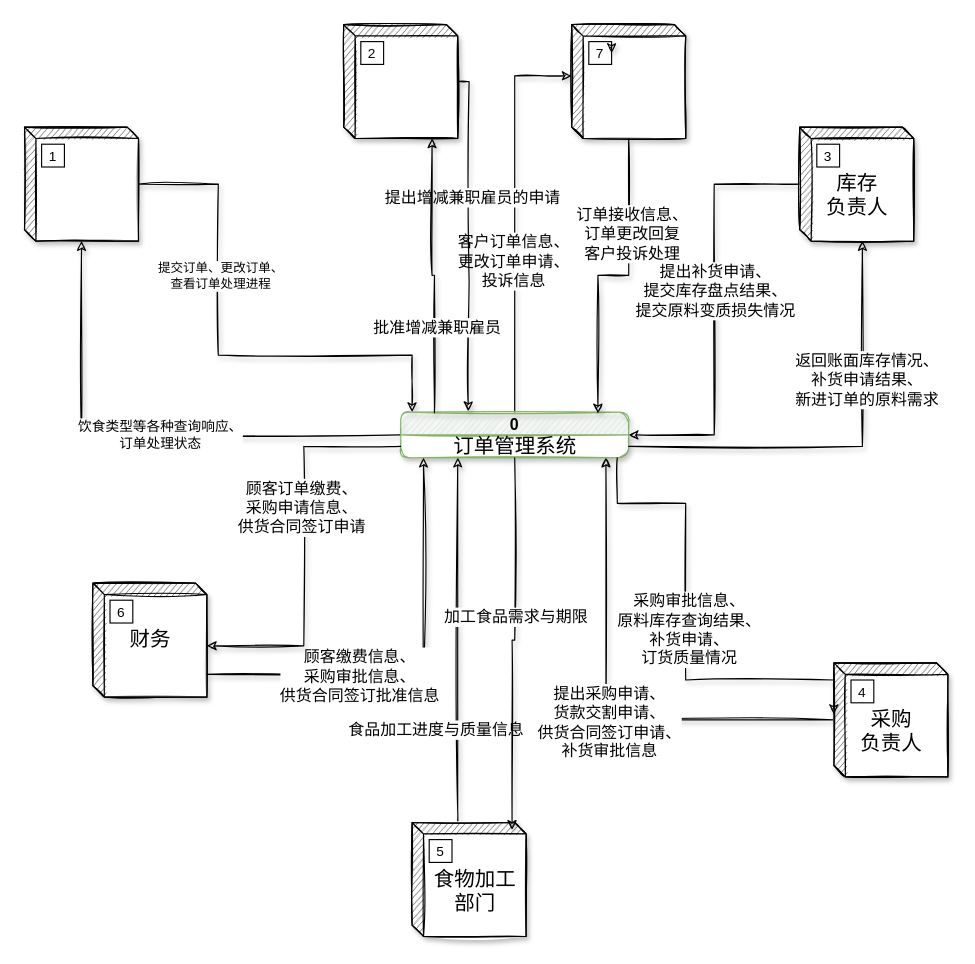
The diagram is 975 pixels wide and 964 high, and some of its shapes have lost their labels. Each missing label, with the centre of its shape:
"人力资源 经理" goes at point 401,82.
"客户" goes at point 82,185.
"销售与 客户部门" goes at point 629,82.
